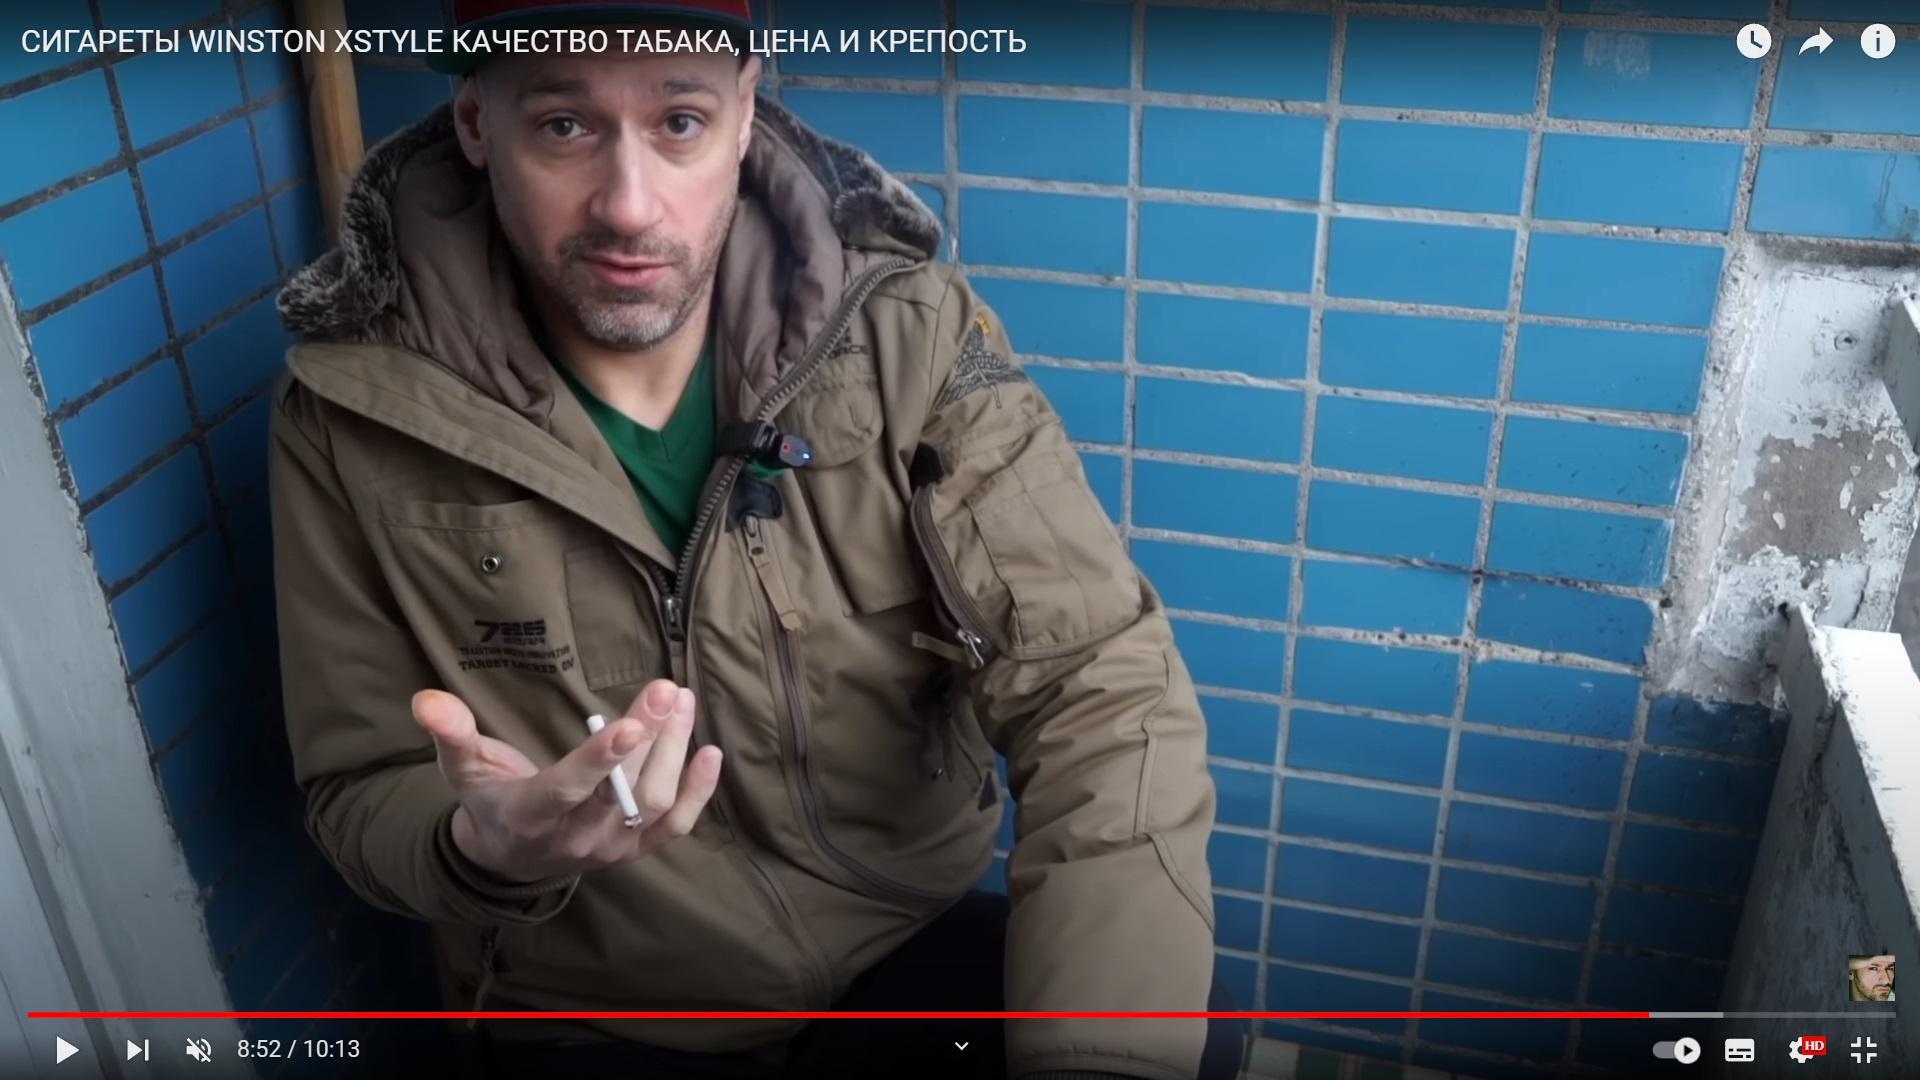cigarette: (585, 713, 644, 829)
